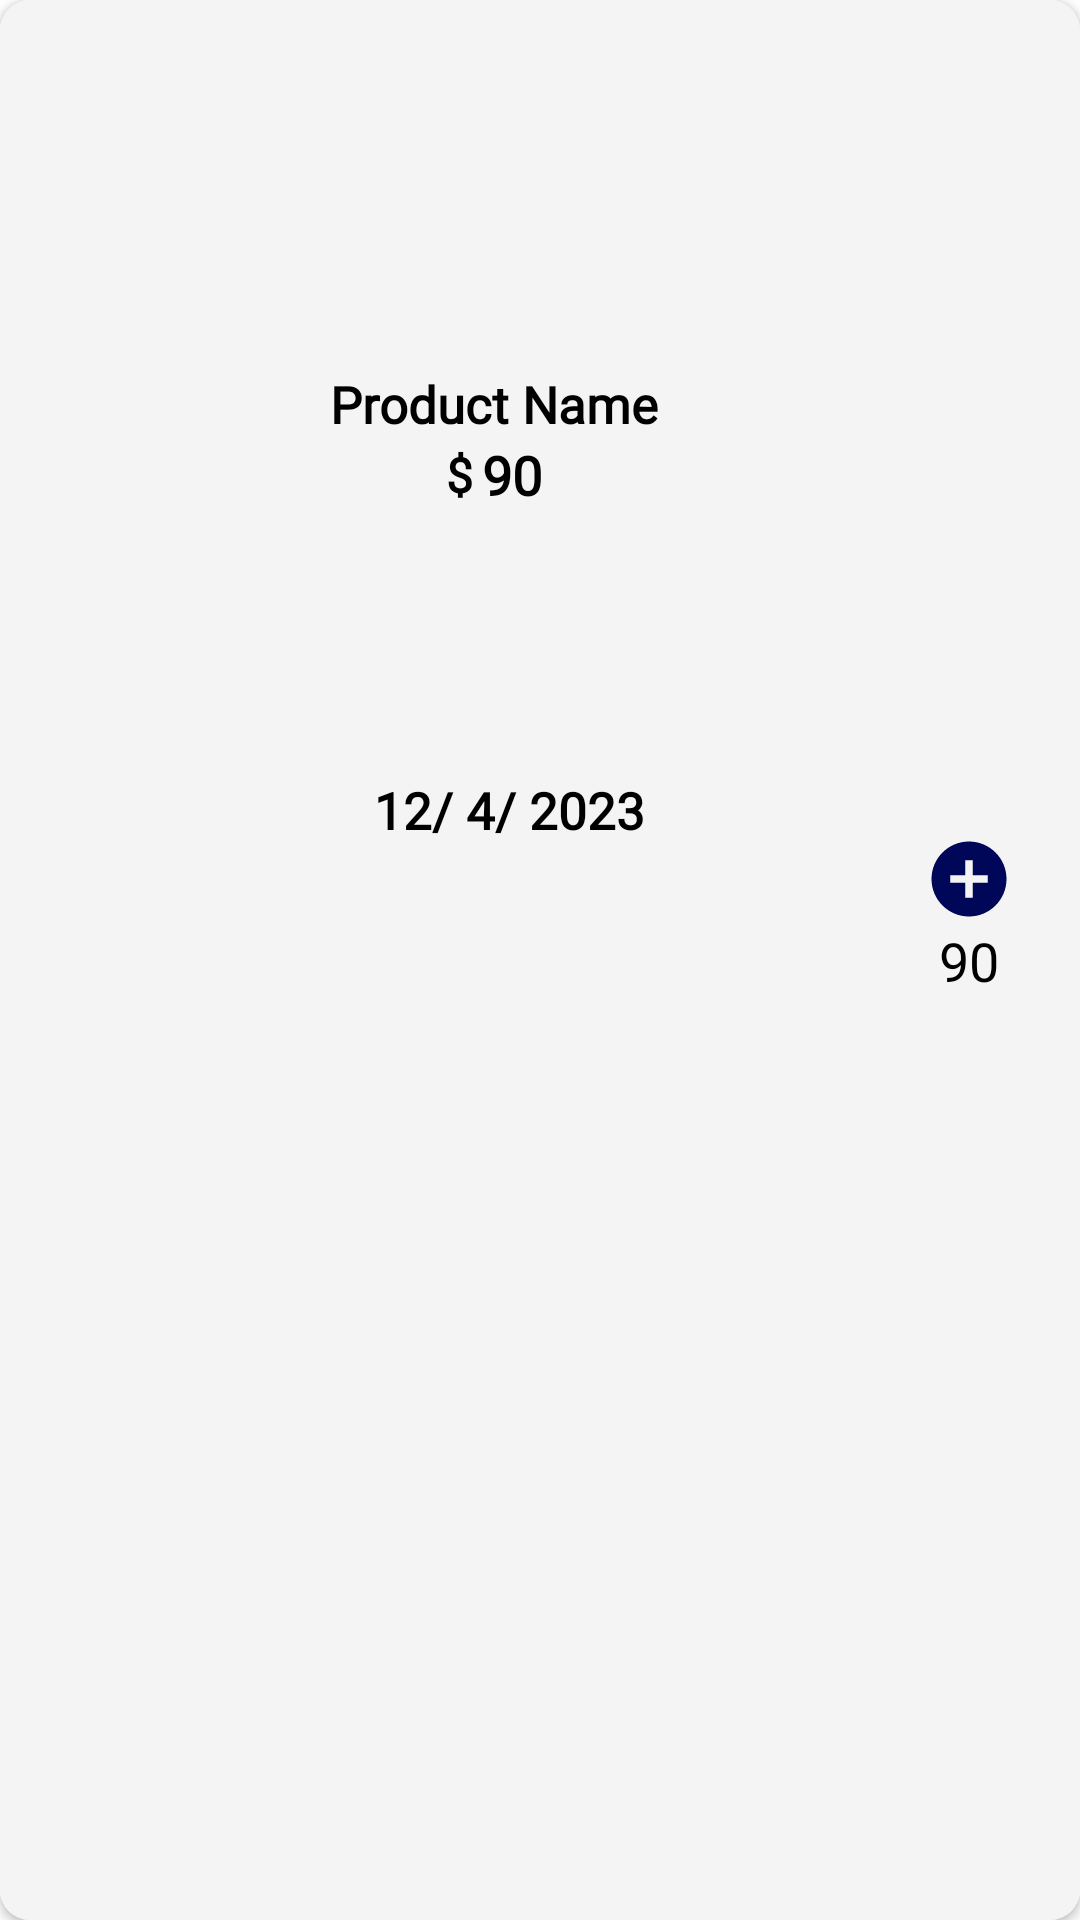

Screen size 1080x1920. Icon name, then its center in pixels as point (x, y):
add circle: point (969, 879)
